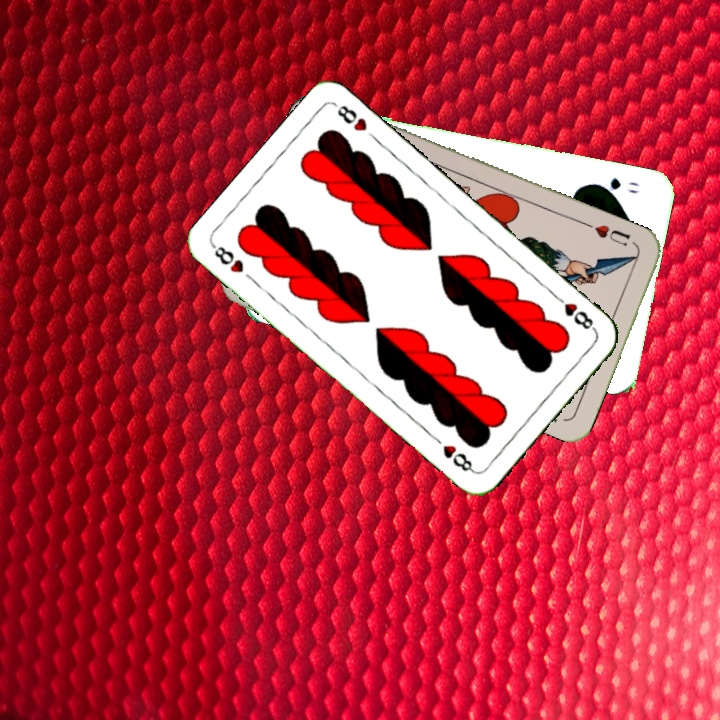GO: (589, 174, 641, 197)
H8: (549, 290, 599, 334), (208, 241, 246, 276)
HU: (590, 220, 633, 249)
